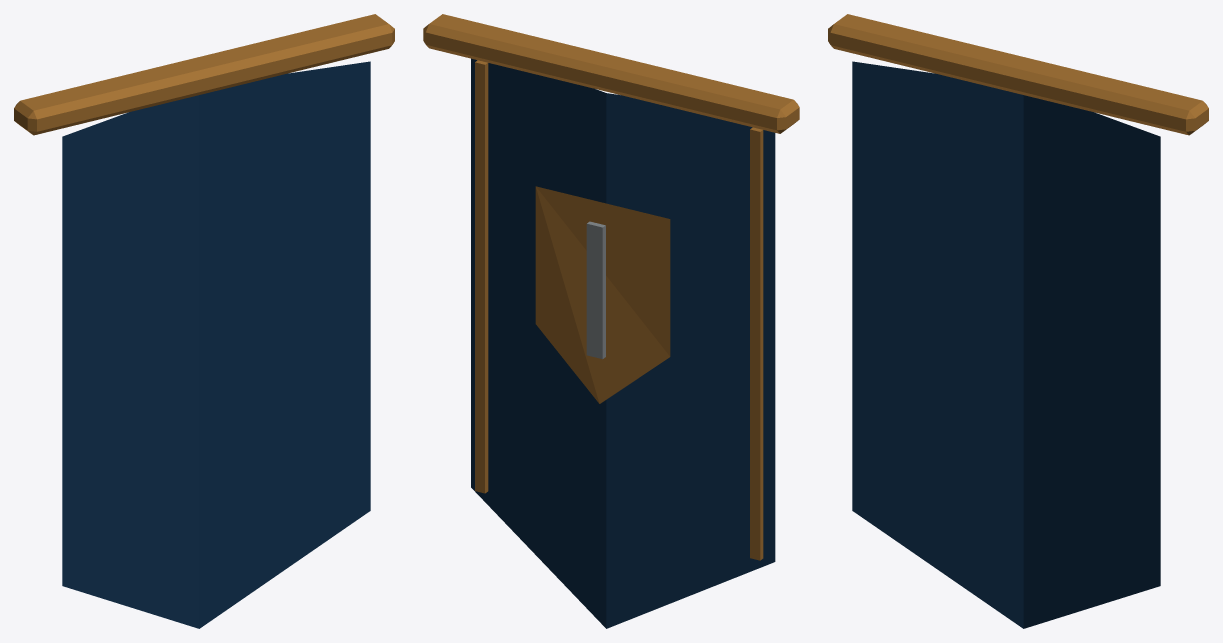
The model's file is Standard.obj.
The picture shows the model from 3 angles, left to right: view 1: azimuth 30°, elevation 25°; view 2: azimuth 150°, elevation 25°; view 3: azimuth 330°, elevation 25°; orthographic projection.
Parts seen in each view (by area): view 1: BannerBlue, Bronze; view 2: BannerBlue, Bronze, StoneLight; view 3: BannerBlue, Bronze.
Part boxes in pixels (x1,y1,x2,y2): BannerBlue: [62, 61, 370, 628]; Bronze: [14, 14, 394, 135]; BannerBlue: [471, 58, 775, 628]; Bronze: [423, 14, 799, 560]; StoneLight: [586, 221, 605, 359]; BannerBlue: [852, 61, 1160, 628]; Bronze: [828, 14, 1208, 135].
Size of the model in its own units: 1.24 by 1.84 by 0.169.
